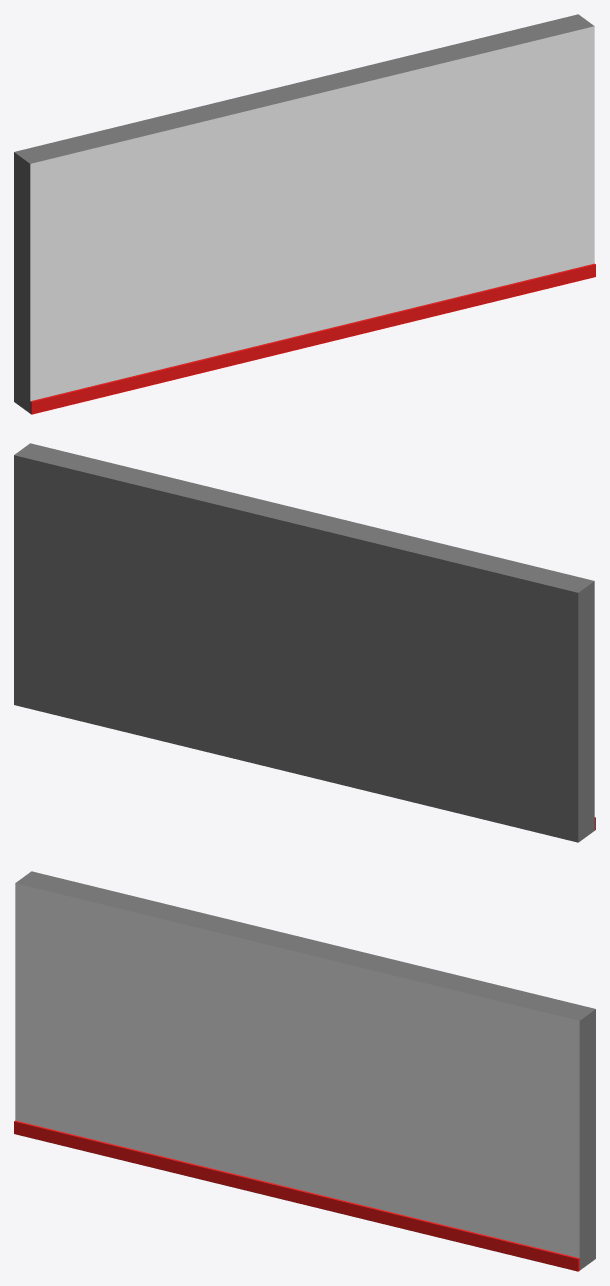
File: MurPorte.fbx
3 views of the same model, one above another, from view 1: azimuth 30°, elevation 25°; view 2: azimuth 150°, elevation 25°; view 3: azimuth 330°, elevation 25° (orthographic).
Parts seen in each view (by area): view 1: MurPorte; view 2: MurPorte; view 3: MurPorte.
Part boxes in pixels (x1,y1,x2,y2): MurPorte: (14, 14, 595, 414); MurPorte: (14, 443, 595, 842); MurPorte: (14, 871, 595, 1271).
Size of the model in its own units: 612 by 33.02 by 259.
